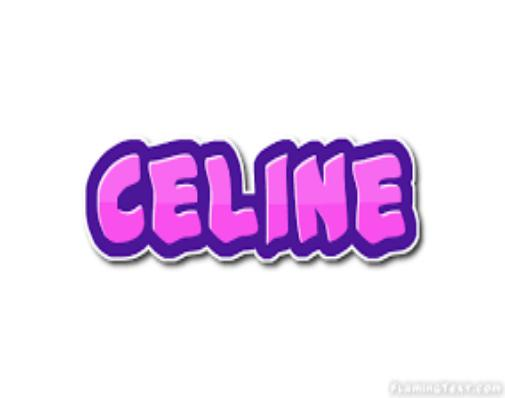CELINE: (76, 128, 424, 287)
